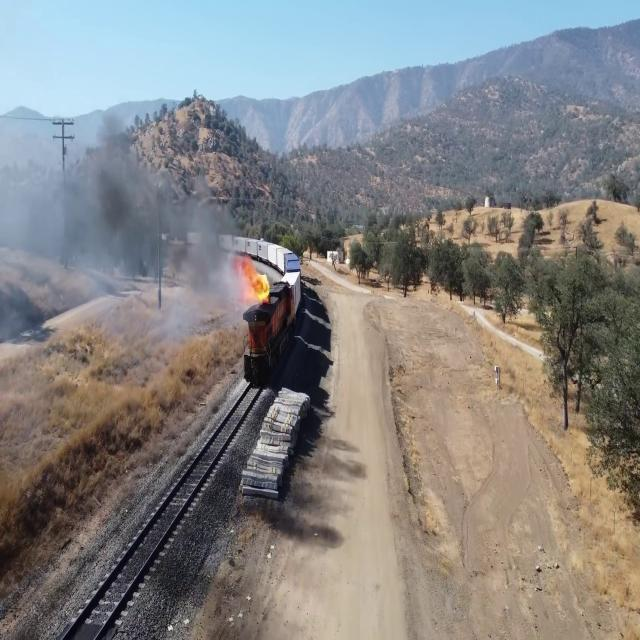Fire: (237, 245, 273, 299)
Smoke: (94, 140, 166, 252)
